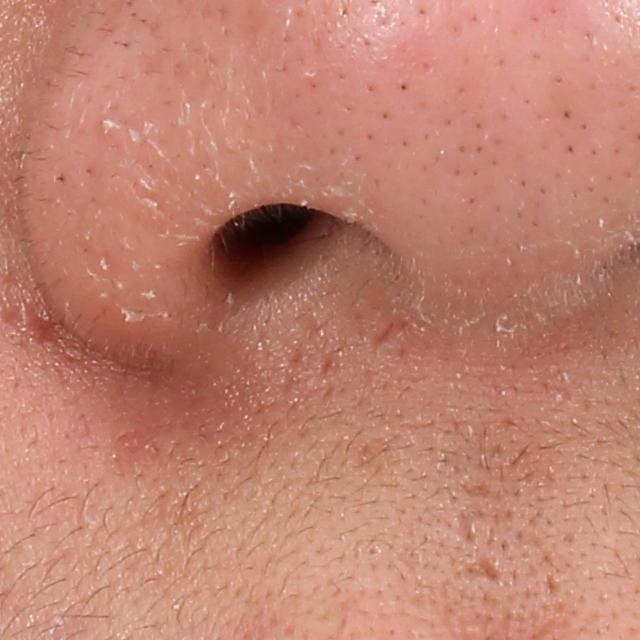atrophic_scar: (367, 307, 414, 355), (462, 554, 505, 586), (457, 512, 477, 546), (460, 483, 496, 497), (543, 573, 559, 601)
